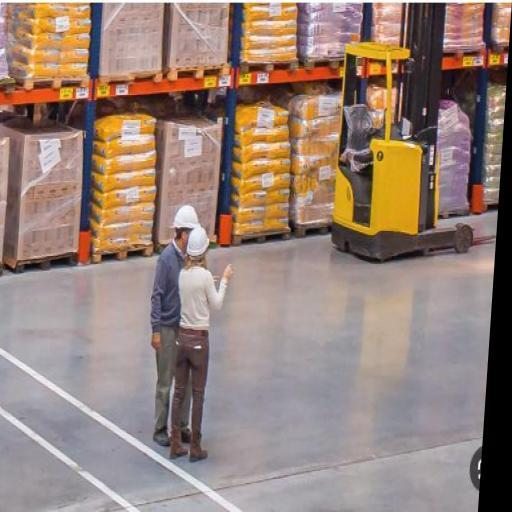safety_boots: (182, 435, 214, 470), (165, 429, 188, 467)
